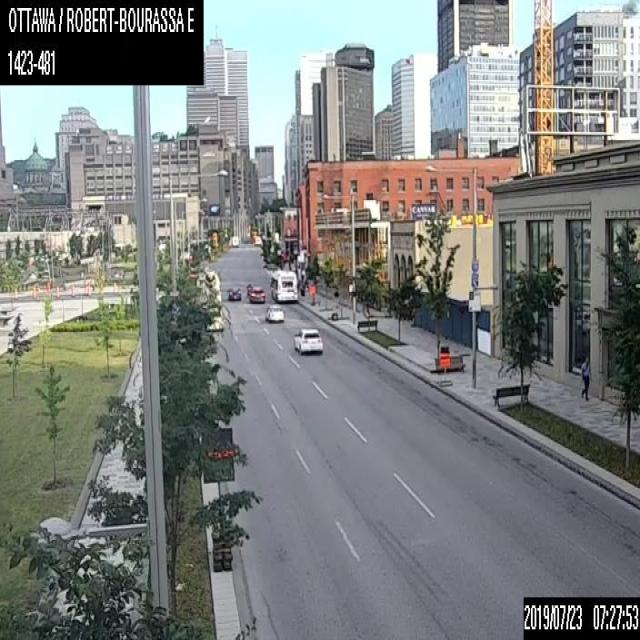bus: (269, 268, 297, 302)
construction: (200, 426, 234, 570), (438, 350, 450, 386), (309, 286, 315, 304)
pedestrian: (579, 355, 589, 400), (333, 283, 339, 309)
vehicle: (292, 326, 322, 354), (264, 304, 282, 323), (247, 284, 265, 303), (225, 284, 241, 300), (231, 235, 239, 246), (254, 235, 260, 245)
